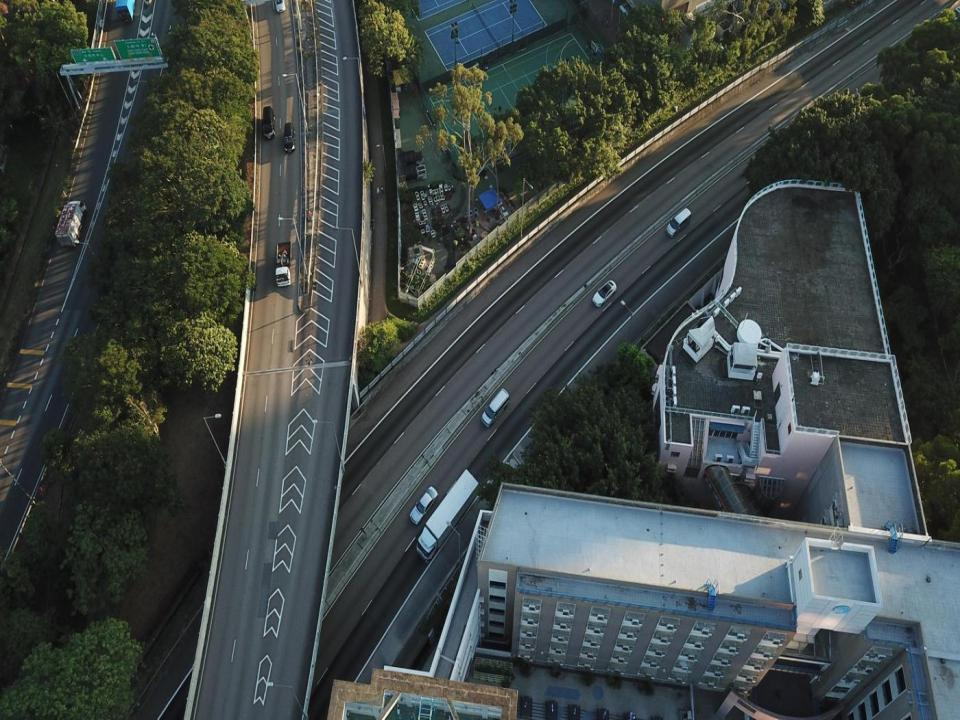car: (409, 487, 439, 525), (592, 280, 616, 309), (274, 0, 286, 14)
truck: (416, 468, 480, 564), (55, 200, 85, 247), (276, 241, 292, 287)
van: (480, 388, 510, 428), (665, 208, 691, 238), (115, 0, 135, 24), (263, 106, 275, 141), (284, 122, 295, 152)
